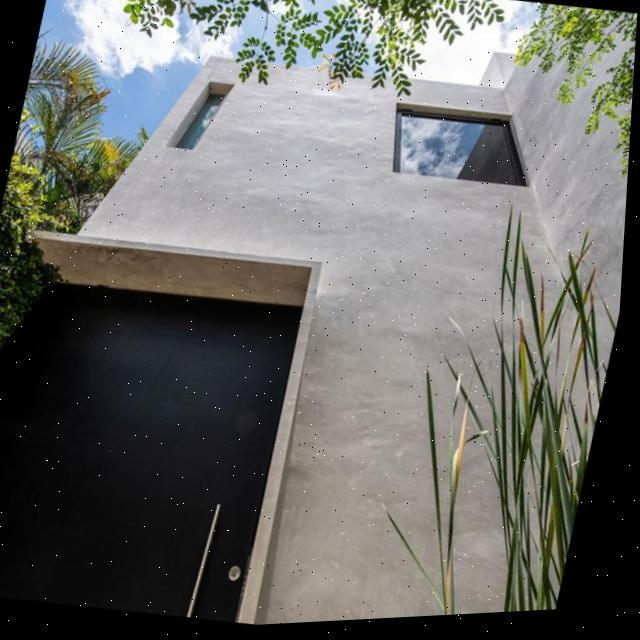building: (0, 2, 638, 640)
